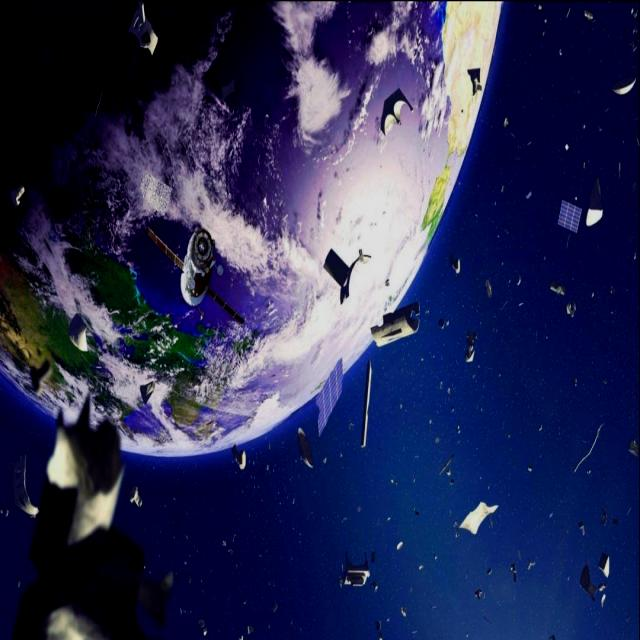large_debris: (1, 398, 172, 640), (323, 249, 372, 306), (370, 297, 420, 351), (316, 358, 344, 438), (11, 453, 41, 519), (452, 500, 500, 540), (380, 85, 414, 139), (572, 422, 606, 476), (127, 2, 159, 55), (338, 550, 372, 591), (360, 358, 372, 449), (584, 176, 604, 227), (557, 197, 583, 234), (295, 425, 316, 469), (29, 356, 53, 394), (66, 310, 87, 353), (576, 565, 596, 602), (625, 4, 638, 54), (611, 73, 636, 96), (138, 378, 158, 405), (463, 329, 478, 364), (92, 84, 106, 120), (231, 442, 248, 471), (219, 76, 237, 103), (438, 452, 456, 478), (466, 67, 482, 96), (9, 182, 25, 210), (220, 530, 236, 557), (548, 276, 566, 299), (127, 484, 144, 508), (598, 551, 612, 579), (448, 251, 462, 277), (626, 431, 640, 457), (373, 614, 385, 640), (598, 581, 608, 610), (568, 368, 581, 390), (564, 298, 578, 318), (482, 275, 493, 299), (614, 157, 624, 182), (197, 617, 209, 637), (581, 6, 596, 22), (598, 505, 608, 528), (394, 535, 406, 553), (610, 510, 621, 529), (509, 560, 517, 585), (576, 518, 586, 538), (500, 112, 511, 130), (380, 275, 394, 289), (633, 120, 640, 148), (526, 557, 538, 573), (389, 472, 401, 488), (438, 315, 450, 330), (415, 556, 425, 574), (534, 418, 544, 436), (178, 601, 188, 619), (399, 602, 409, 619), (452, 419, 462, 436), (320, 452, 332, 466), (594, 120, 605, 135), (262, 109, 270, 128), (186, 569, 194, 588), (246, 619, 256, 634), (436, 377, 446, 392), (432, 432, 442, 447), (514, 271, 523, 287), (473, 585, 482, 601), (557, 43, 566, 59), (579, 116, 588, 132), (630, 247, 638, 265), (485, 562, 494, 578), (607, 284, 617, 298), (523, 188, 534, 200), (547, 629, 559, 640), (534, 1, 545, 13), (564, 4, 572, 20), (270, 599, 278, 614), (372, 577, 379, 593), (526, 463, 534, 476), (446, 383, 454, 396), (602, 103, 610, 115), (498, 182, 505, 195), (371, 545, 376, 563), (236, 630, 245, 640)
medium_debris: (146, 226, 246, 325)
